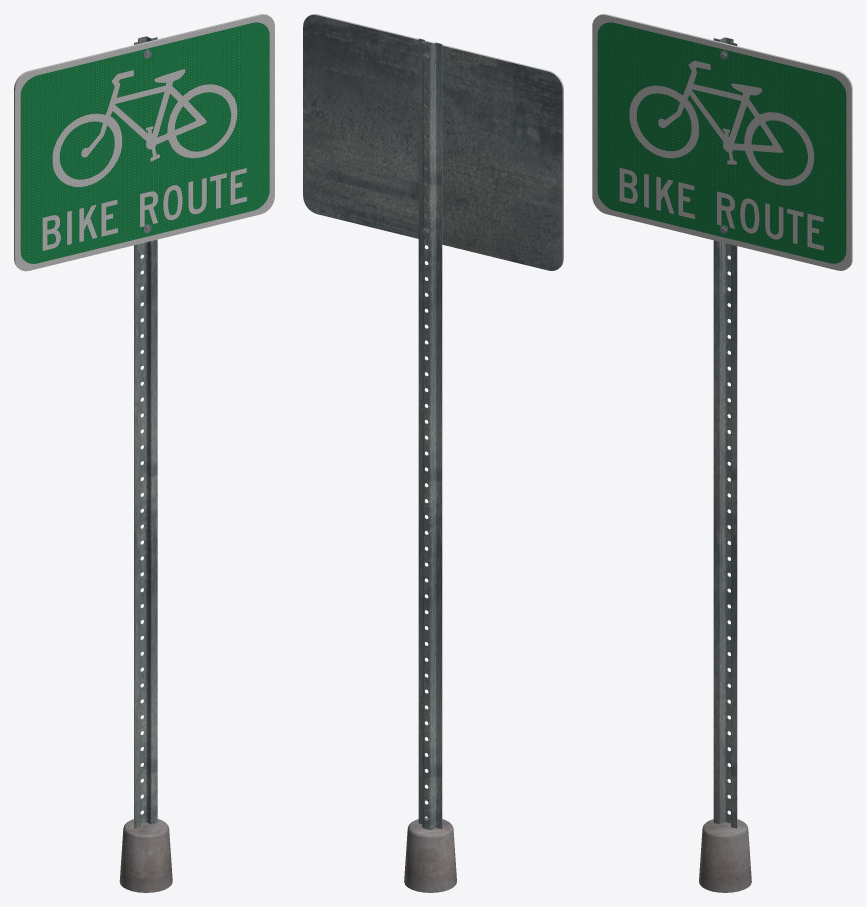
Rendered from bikeroute_nsoc.obj.
3 renders of one model, left to right at view 1: azimuth 30°, elevation 25°; view 2: azimuth 150°, elevation 25°; view 3: azimuth 330°, elevation 25°, orthographic.
Visible parts, largest first — view 1: sign_bike_route; view 2: sign_bike_route; view 3: sign_bike_route.
Boxes of the visible parts, <box> form: sign_bike_route: <box>14,14,274,892</box>; sign_bike_route: <box>303,14,563,892</box>; sign_bike_route: <box>592,14,852,892</box>.
Size of the model in its own units: 33.06 by 102 by 5.84.
Materials: 3 (3 with a texture image).
